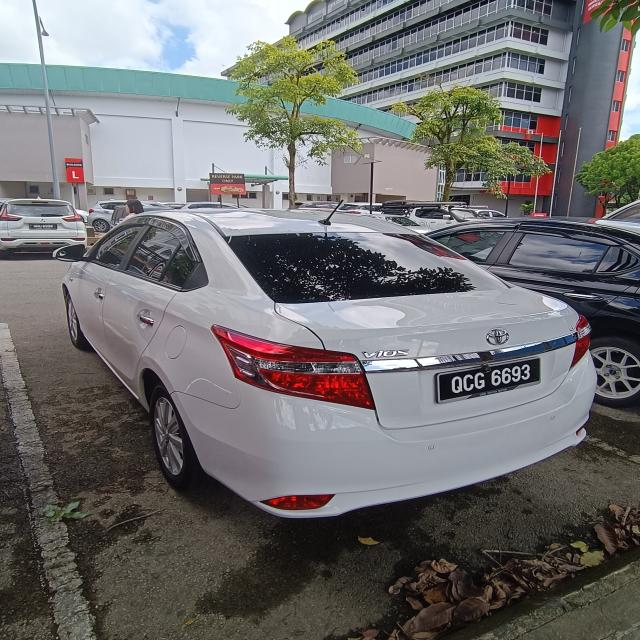ToyotaVios: (53, 205, 598, 519)
